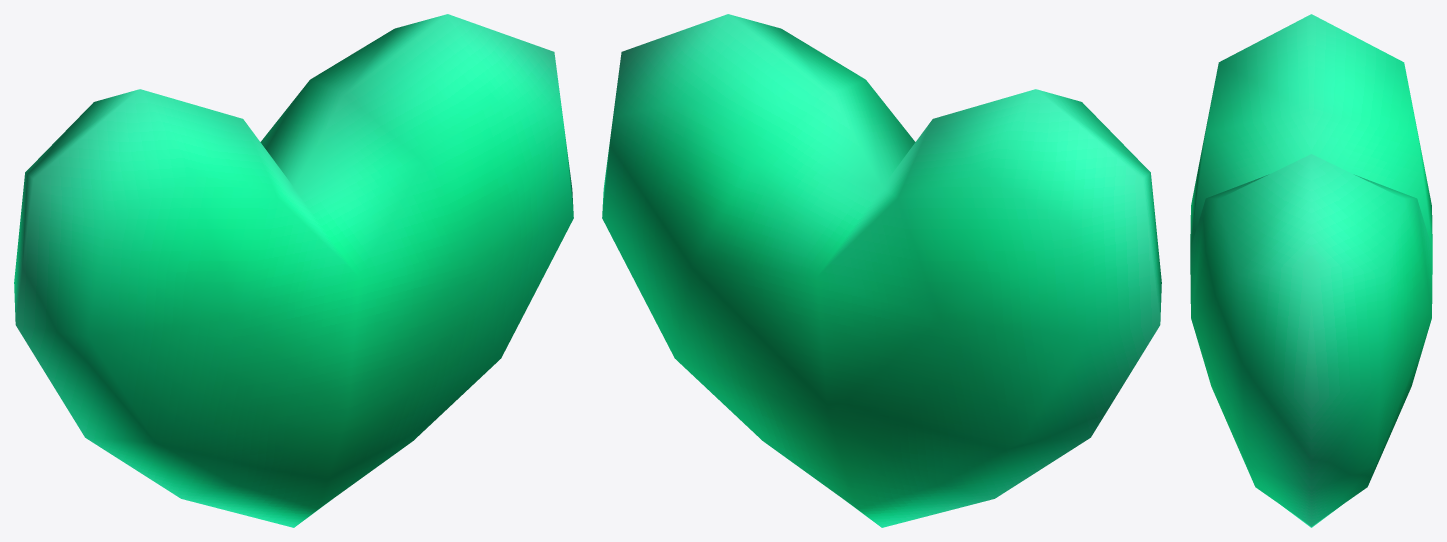
File: aixin.fbx
3 views of the same model, side by side, from view 1: azimuth 30°, elevation 25°; view 2: azimuth 150°, elevation 25°; view 3: azimuth 270°, elevation 25° (orthographic). The views are drawn at different scales.
Visible parts, largest first — view 1: aixin; view 2: aixin; view 3: aixin.
Part boxes in pixels (x1,y1,x2,y2): aixin: (14, 14, 573, 527); aixin: (602, 14, 1161, 527); aixin: (1190, 14, 1432, 527).
Bounding box in the file's own units: 0.1 × 0.0818 × 0.0405.
